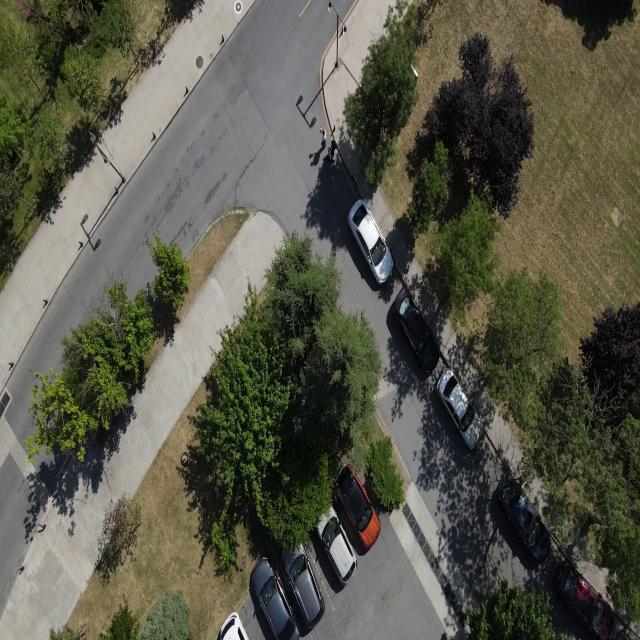p3rson: (326, 146, 335, 166), (321, 128, 326, 148), (330, 139, 337, 150)
